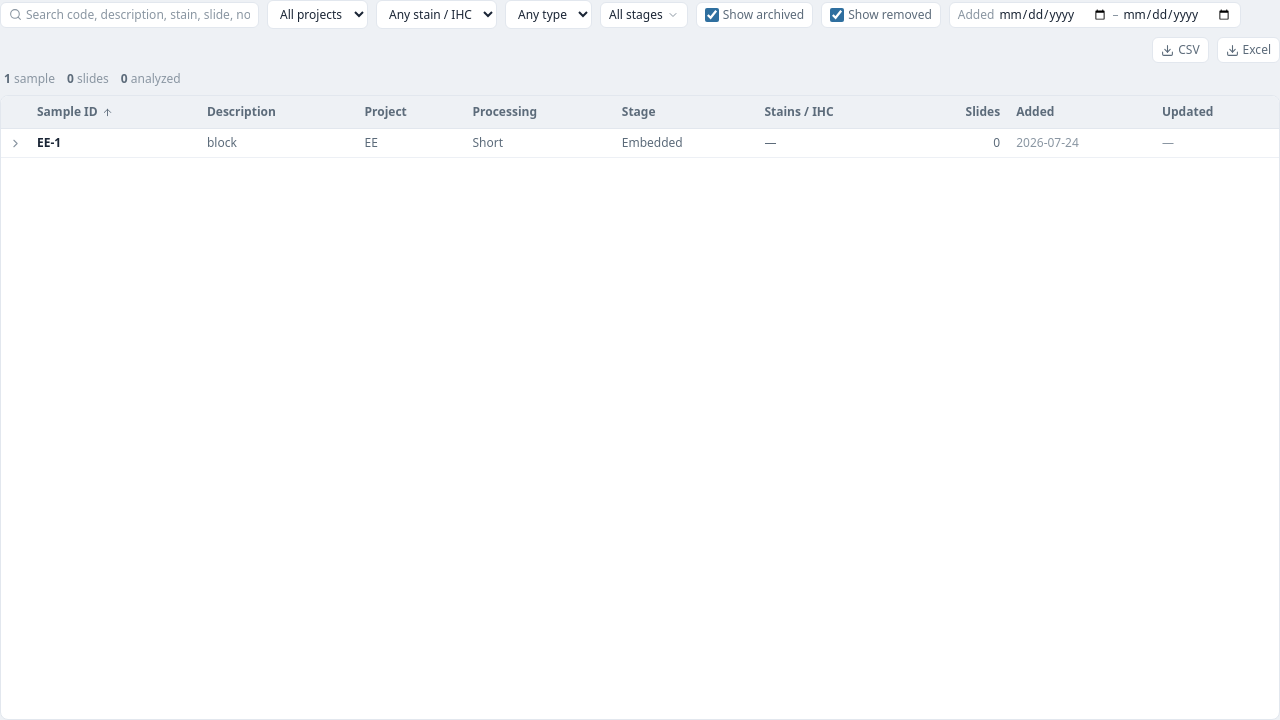
Scenario: LogsView — removing a sample › says so when the removal is refused, and keeps the sample listed
Click the text "EE-1". click: (49, 143)
box: [37,135,61,151]
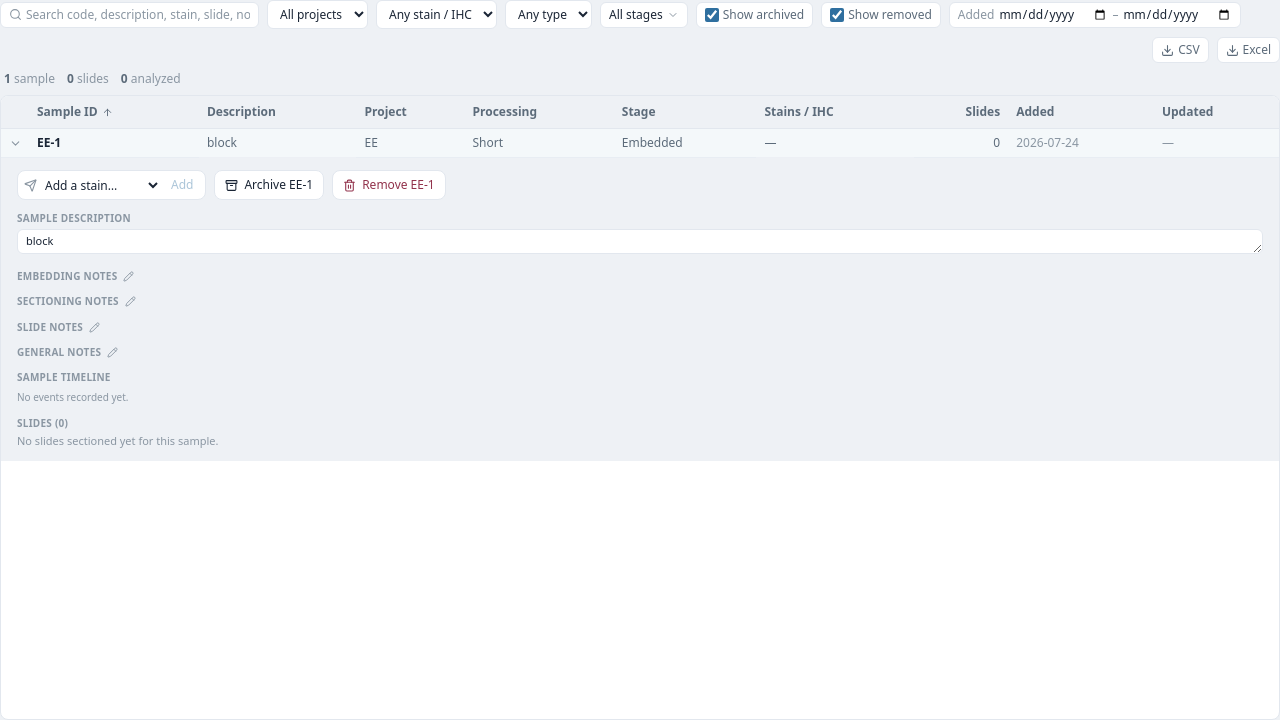
Click the button "Remove EE-1". click: (389, 185)
box: [332,170,446,200]
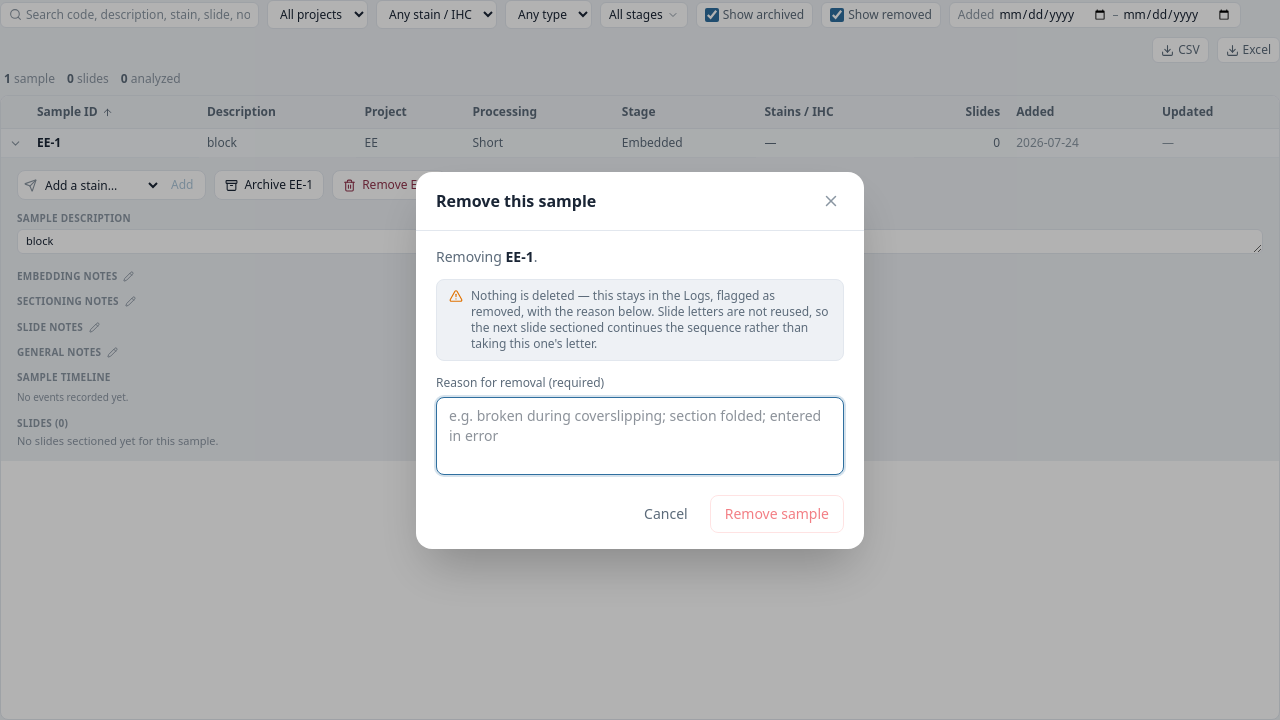
Type "cleanup" into the text box labelled "Reason for removal". click: (640, 436)
box: [436,396,844,474]
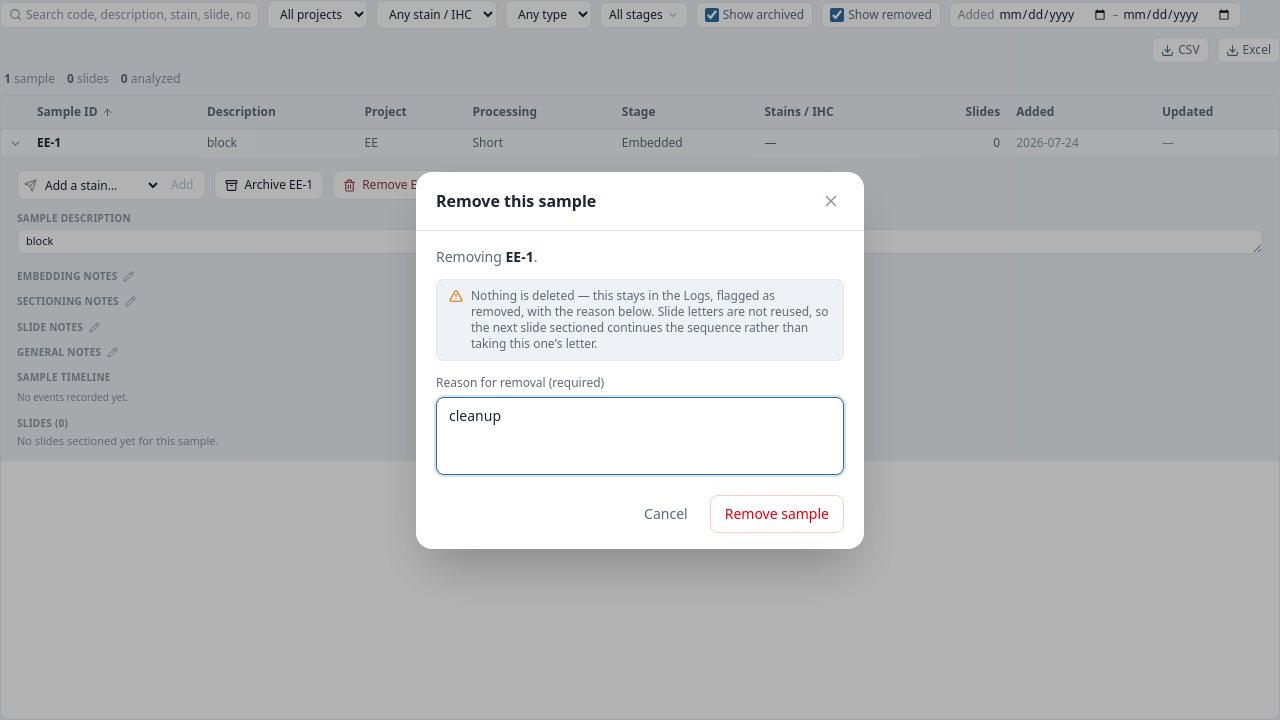
Click the button "Remove sample". click: (777, 514)
box: [710,494,844,532]
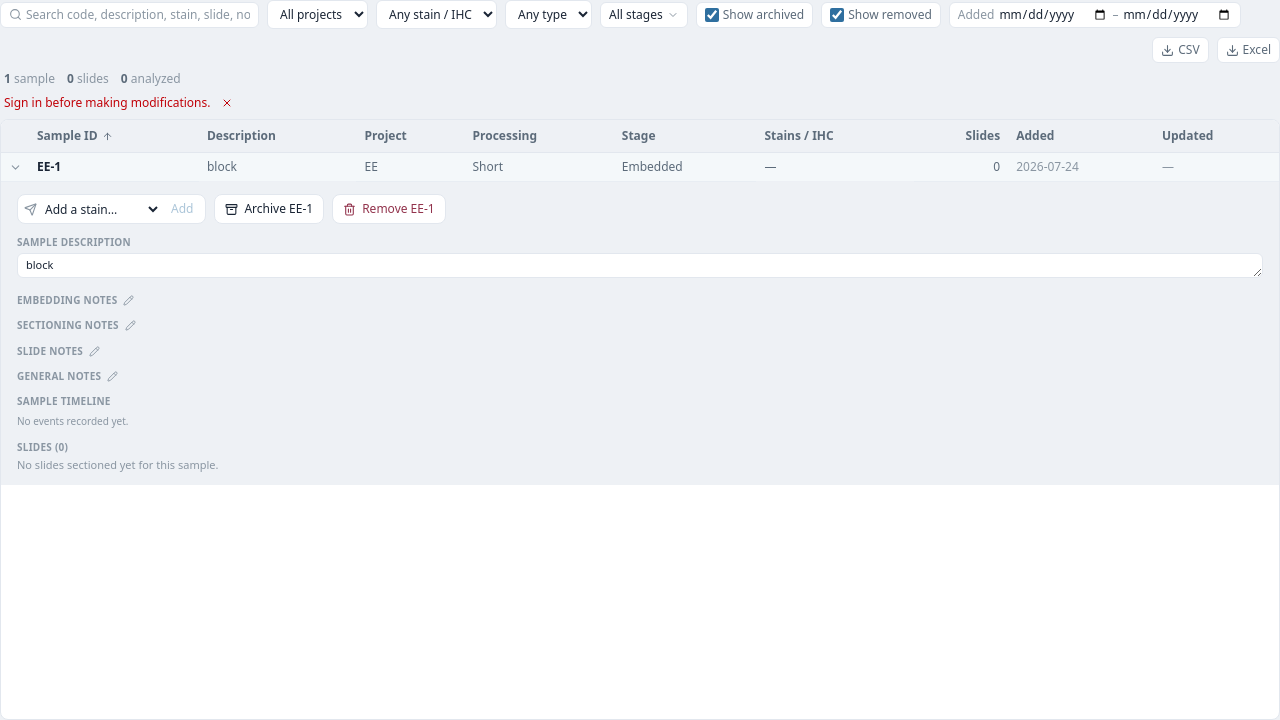
Expected: the text "EE-1" is shown, [37,159,61,175]
Expected: the message reads "Sign in before making modifications.", [4,94,210,111]
Click the button named "Dismiss". click: (226, 103)
box: [218,95,234,111]
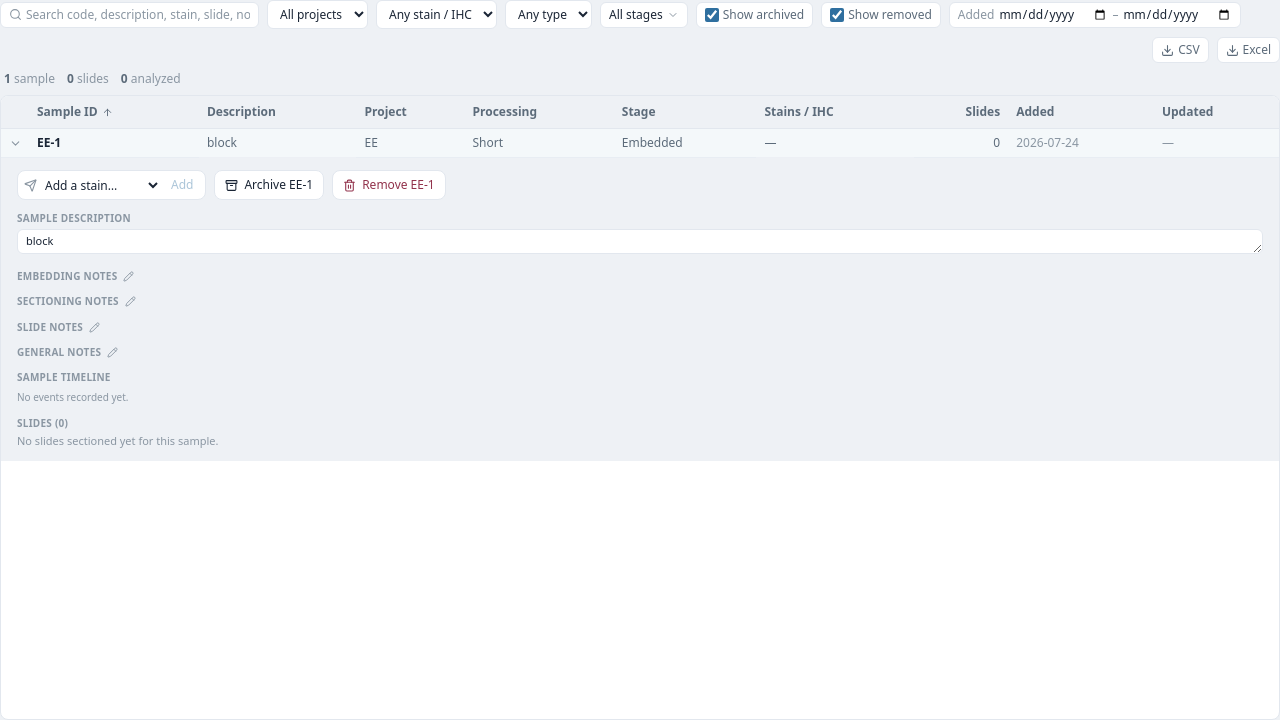
Expected: the message "Sign in before making modifications." is gone
